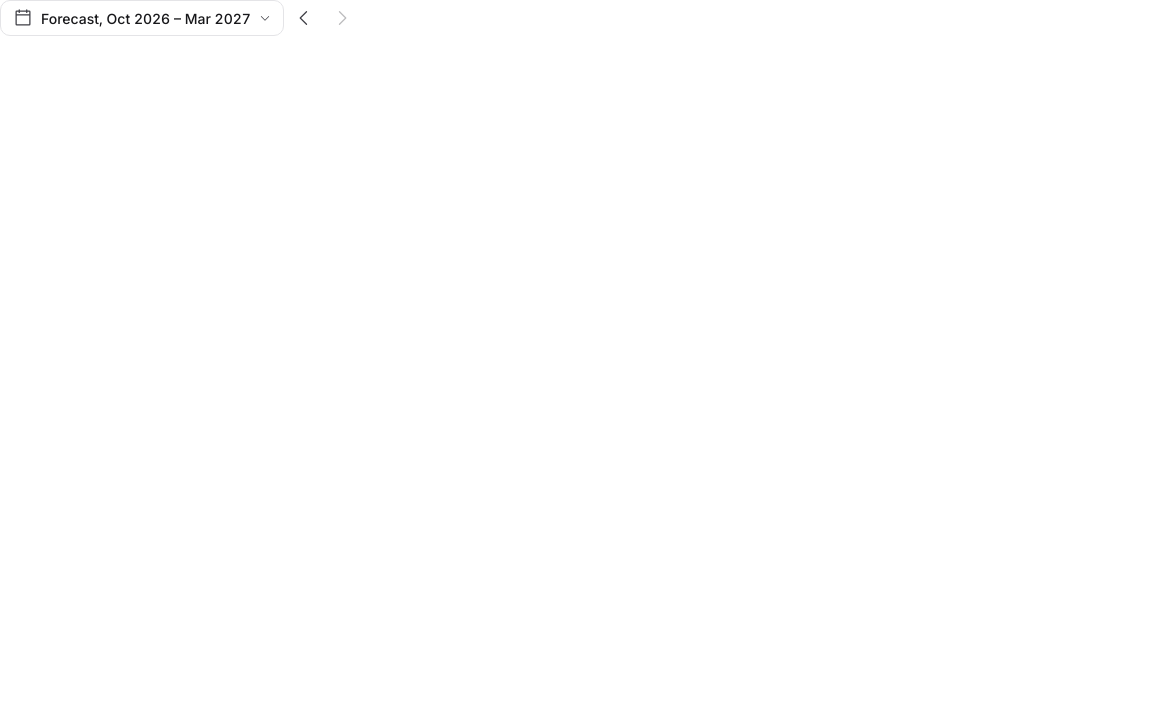
PeriodPicker › opens the years of the data from the year in the header
The image size is (1152, 720).
Click the button "Forecast, Oct 2026 – Mar 2027": x=142, y=18 left=0, top=0, right=284, bottom=36
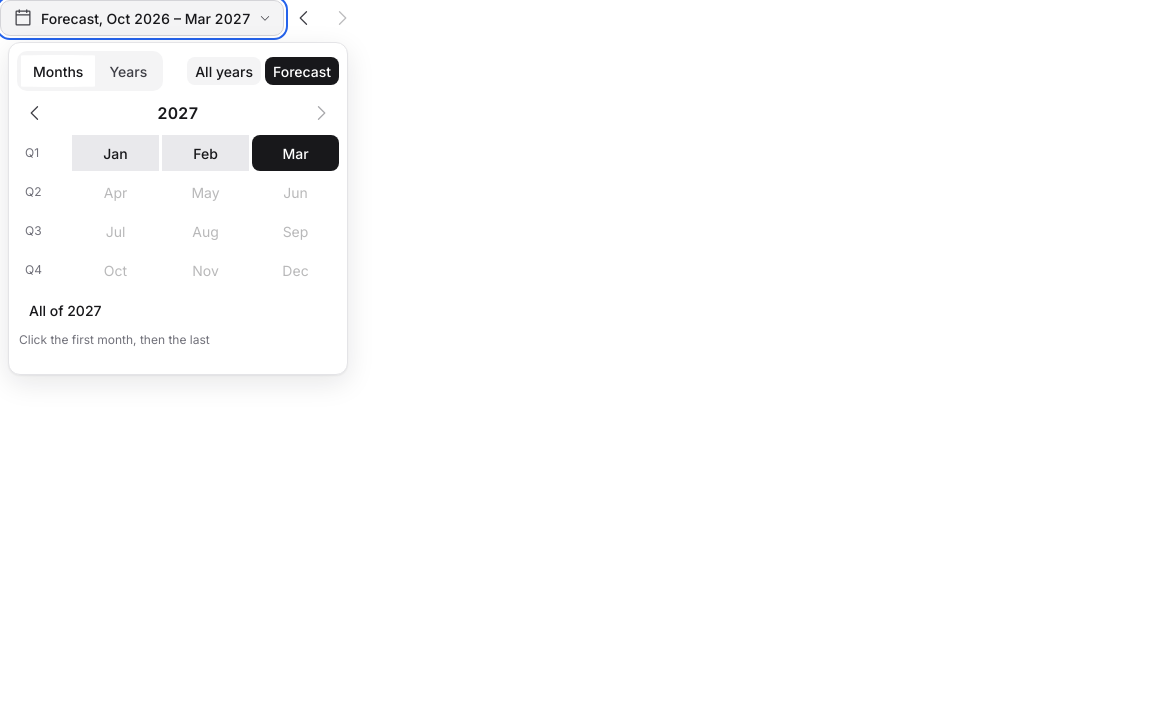
Click the button named "Choose a year": x=178, y=113 left=149, top=99, right=207, bottom=127
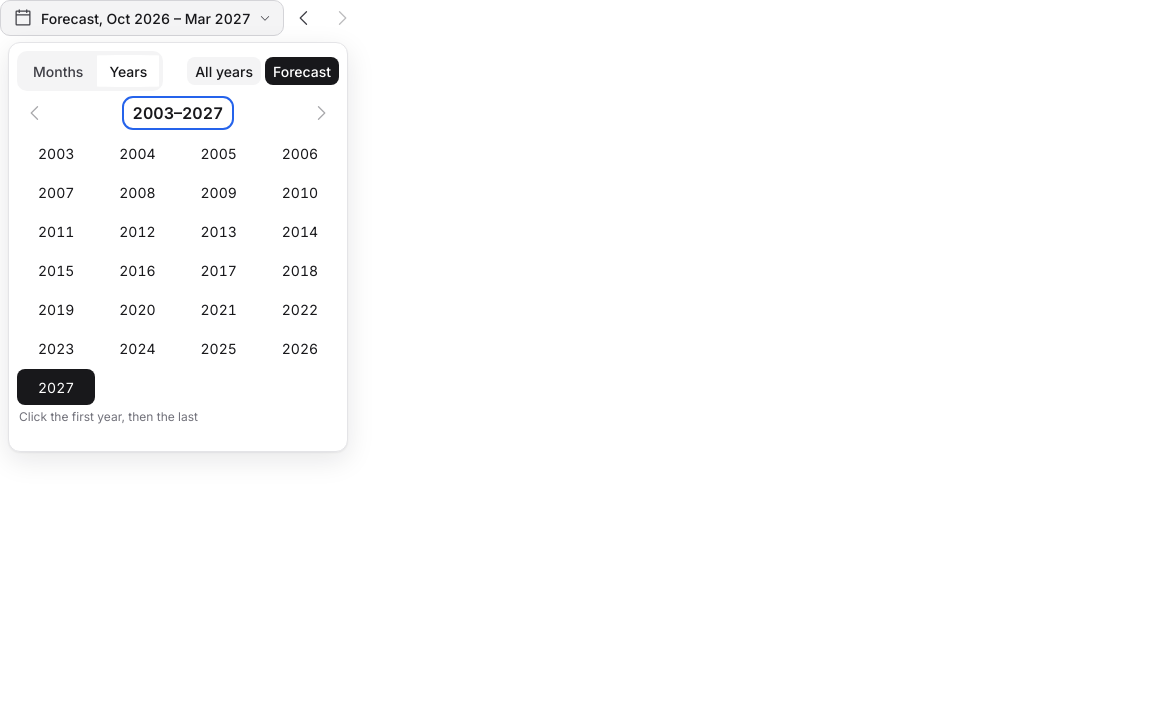
expect the button named "Previous year" is disabled: met, box left=17, top=95, right=53, bottom=131
expect the button named "Choose a year" reads "2003–2027": met, box left=125, top=99, right=231, bottom=127
expect the message reads "Click the first year, then the last": met, box left=19, top=409, right=198, bottom=424
